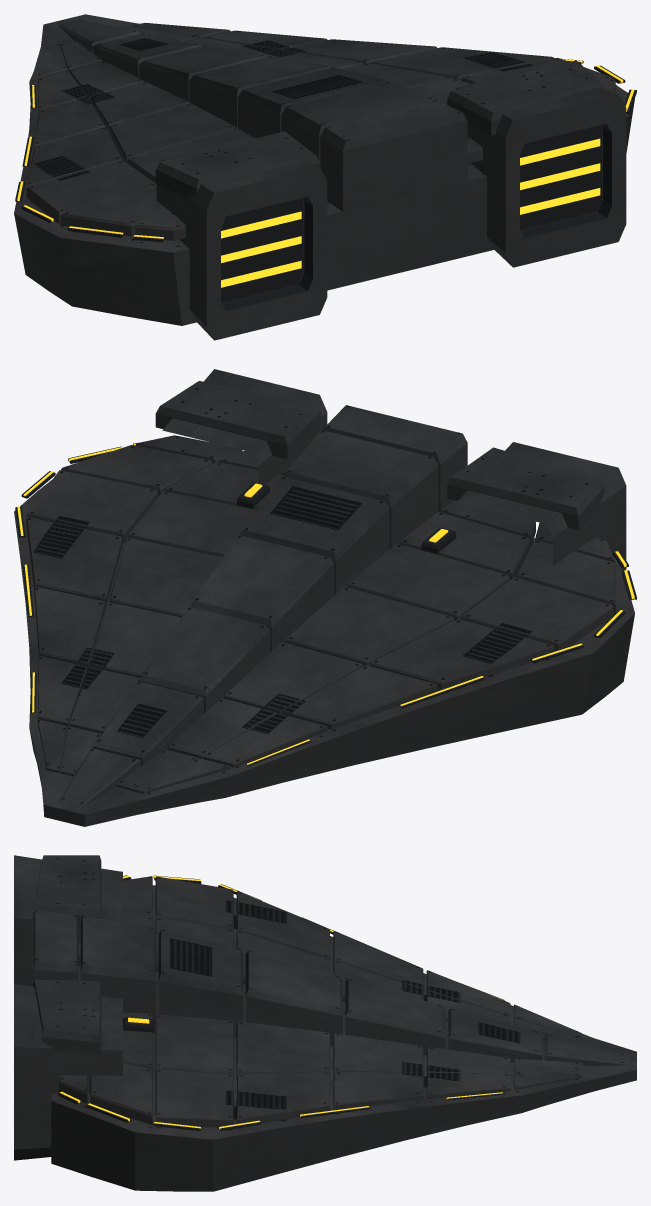
Rendered from cutlass.glb.
3 renders of one model, top to bottom at view 1: azimuth 30°, elevation 25°; view 2: azimuth 150°, elevation 25°; view 3: azimuth 270°, elevation 25°, orthographic. The views are drawn at different scales.
Parts seen in each view (by area): view 1: Cutlass; view 2: Cutlass; view 3: Cutlass.
Part boxes in pixels (left/top/right/bottom): Cutlass: left=14, top=14, right=636, bottom=340; Cutlass: left=14, top=369, right=636, bottom=826; Cutlass: left=14, top=855, right=636, bottom=1191.
Size of the model in its own units: 1.9 by 0.488 by 2.
Materials: 4 (1 with a texture image).
